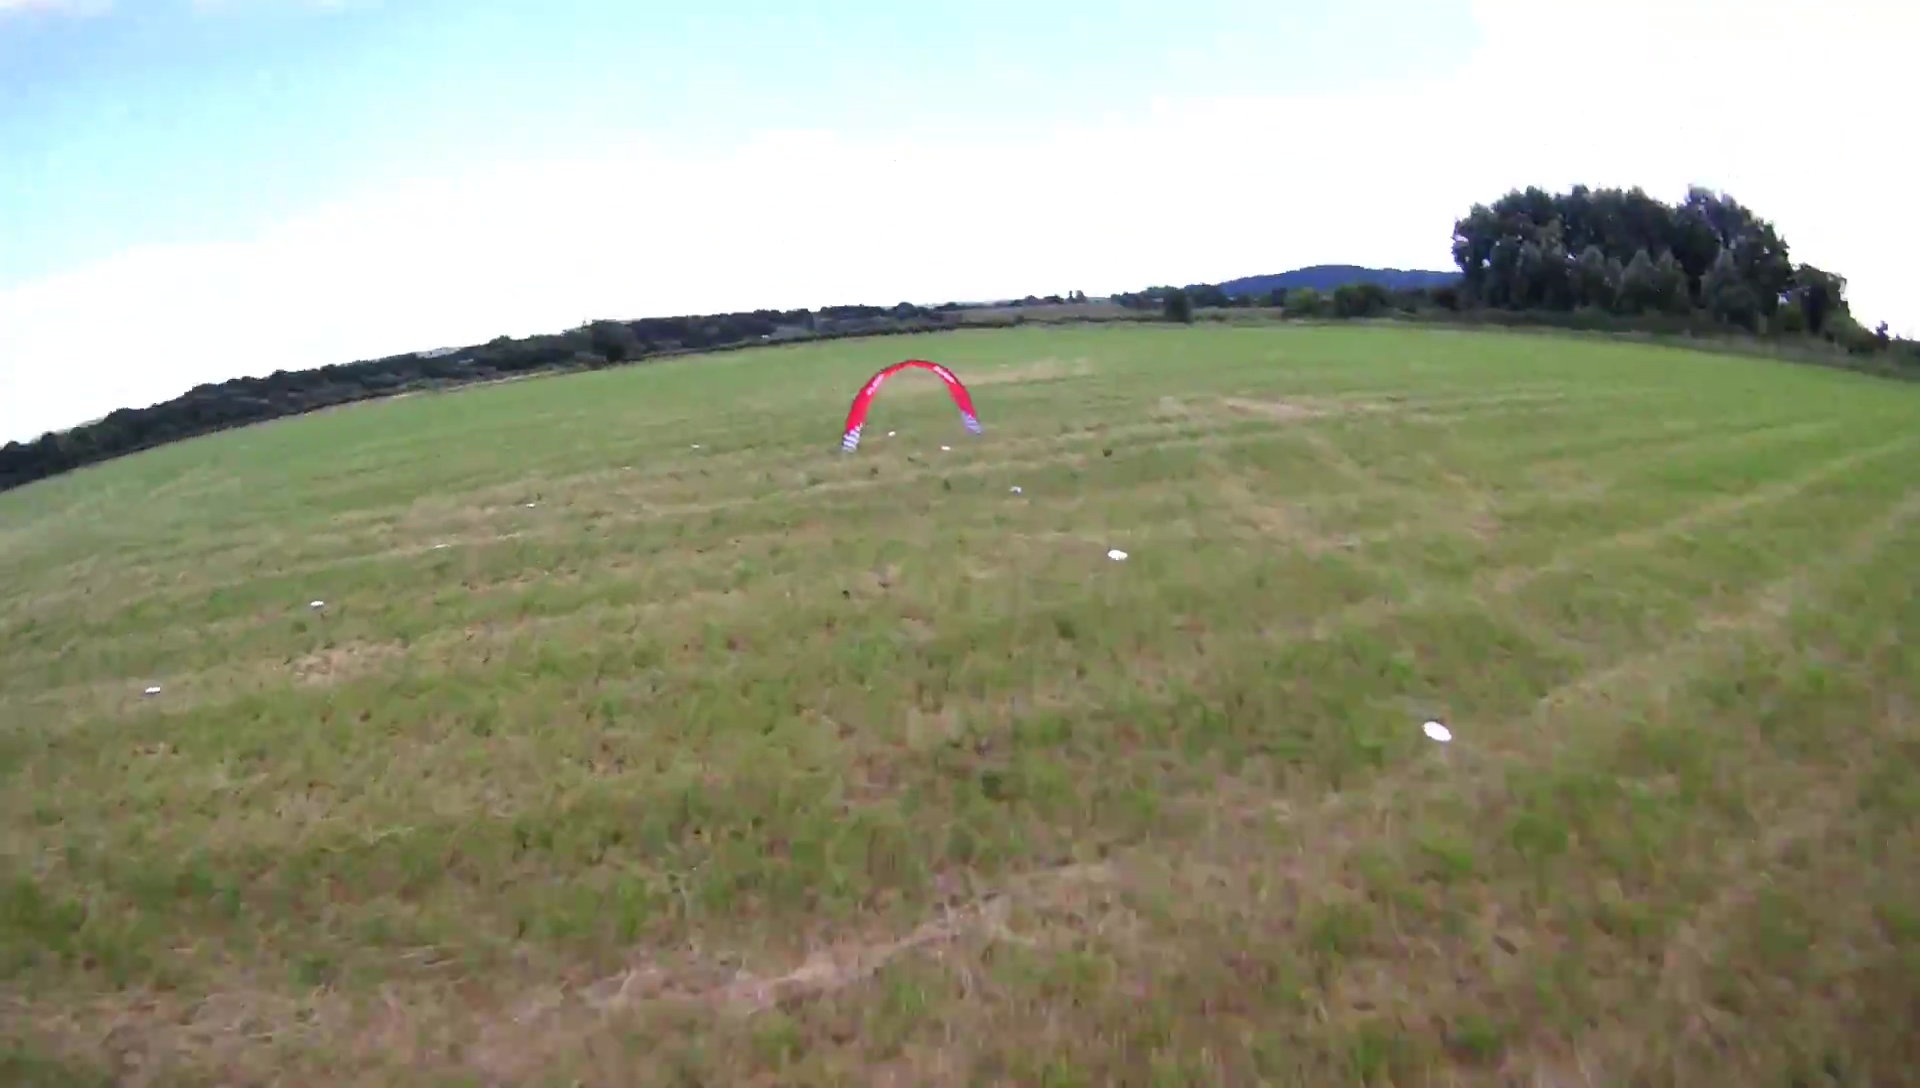gate: (837, 357, 984, 456)
